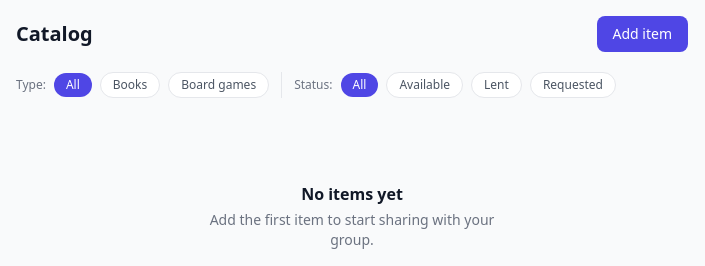
it: CatalogPage › shows type-specific empty message for Board games filter
Check: the element with test id "catalog-filters" is shown, box [16, 72, 688, 98]
Click the button "Board games". click: (219, 85)
box: [168, 72, 269, 98]
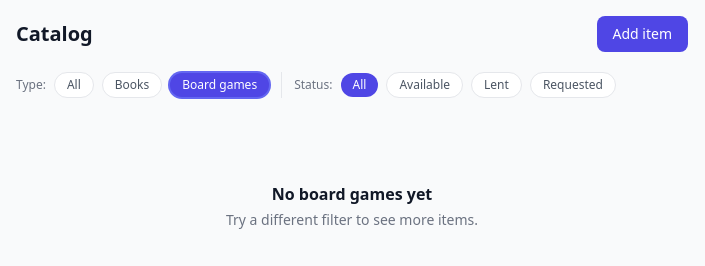
Check: the heading "No board games yet" is shown, box [272, 182, 432, 206]
